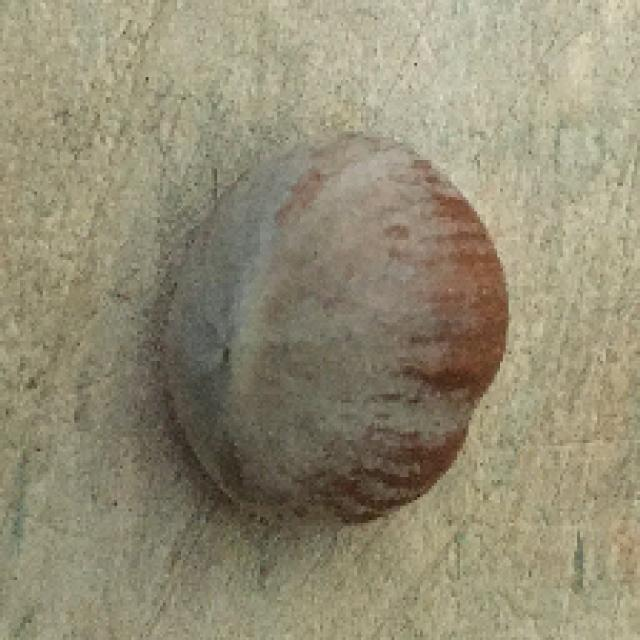qualityHazelnut: (152, 135, 507, 536)
